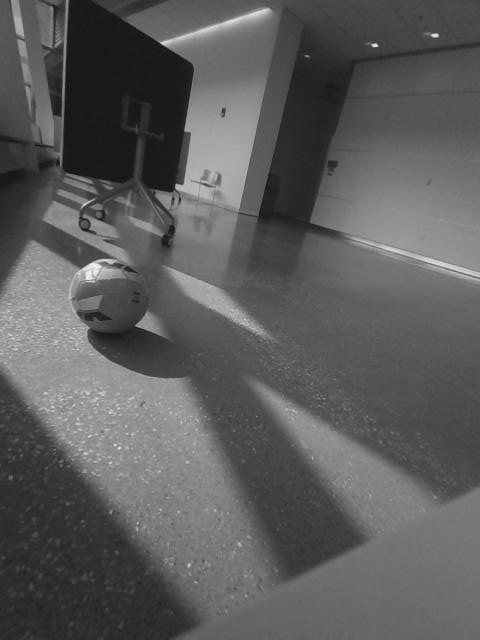ball: (68, 256, 152, 336)
